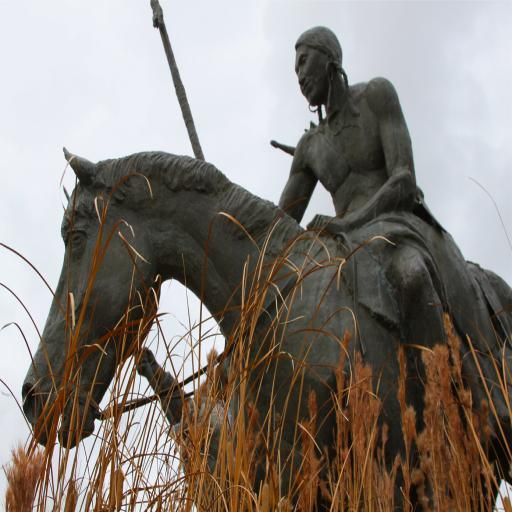horse: (20, 148, 512, 512)
